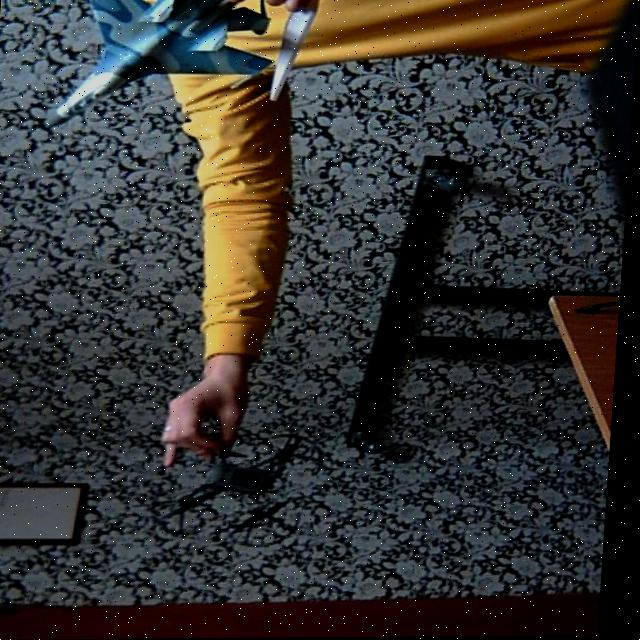drone: (136, 427, 328, 550)
